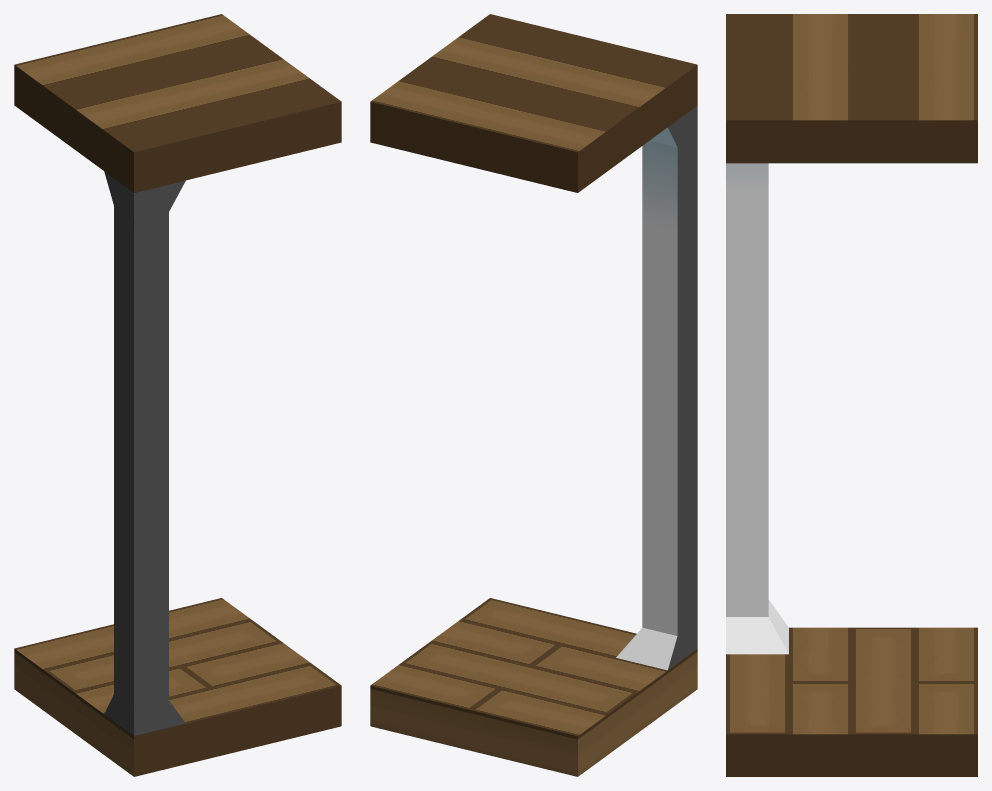
File: HomeCornerFront2.obj
3 renders of one model, left to right at view 1: azimuth 30°, elevation 25°; view 2: azimuth 150°, elevation 25°; view 3: azimuth 270°, elevation 25°, orthographic. The views are drawn at different scales.
Parts seen in each view (by area): view 1: Mid, Wall; view 2: Mid, Wall; view 3: Mid, Wall.
Boxes of the visible parts, x1,y1,x2,y2 form: Mid: [14, 14, 341, 776]; Wall: [104, 171, 185, 735]; Mid: [370, 14, 697, 776]; Wall: [616, 105, 697, 670]; Mid: [726, 14, 977, 776]; Wall: [726, 163, 788, 654].
Bounding box in the file's own units: 1 × 2.88 × 1.
Materials: 2 (2 with a texture image).
